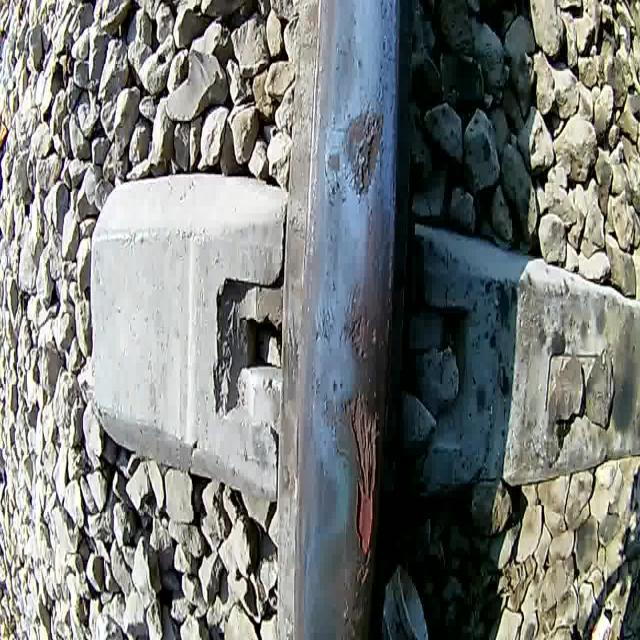Cracks: (356, 541, 372, 596)
Spallings: (345, 384, 381, 561), (352, 114, 386, 200), (341, 302, 373, 362)
Squats: (322, 374, 386, 620), (320, 104, 389, 214)
